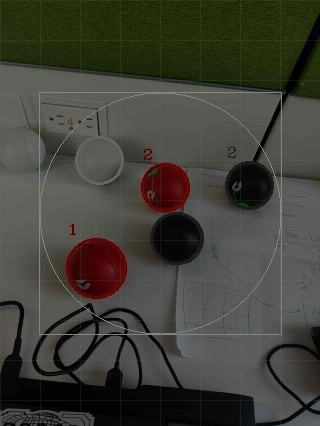Pelota blanca: (265, 342, 320, 425), (74, 134, 123, 187), (0, 126, 46, 174)
Pelota negra: (148, 209, 203, 264), (223, 158, 275, 211)
Pelota roja: (63, 236, 129, 302), (140, 161, 190, 214)
